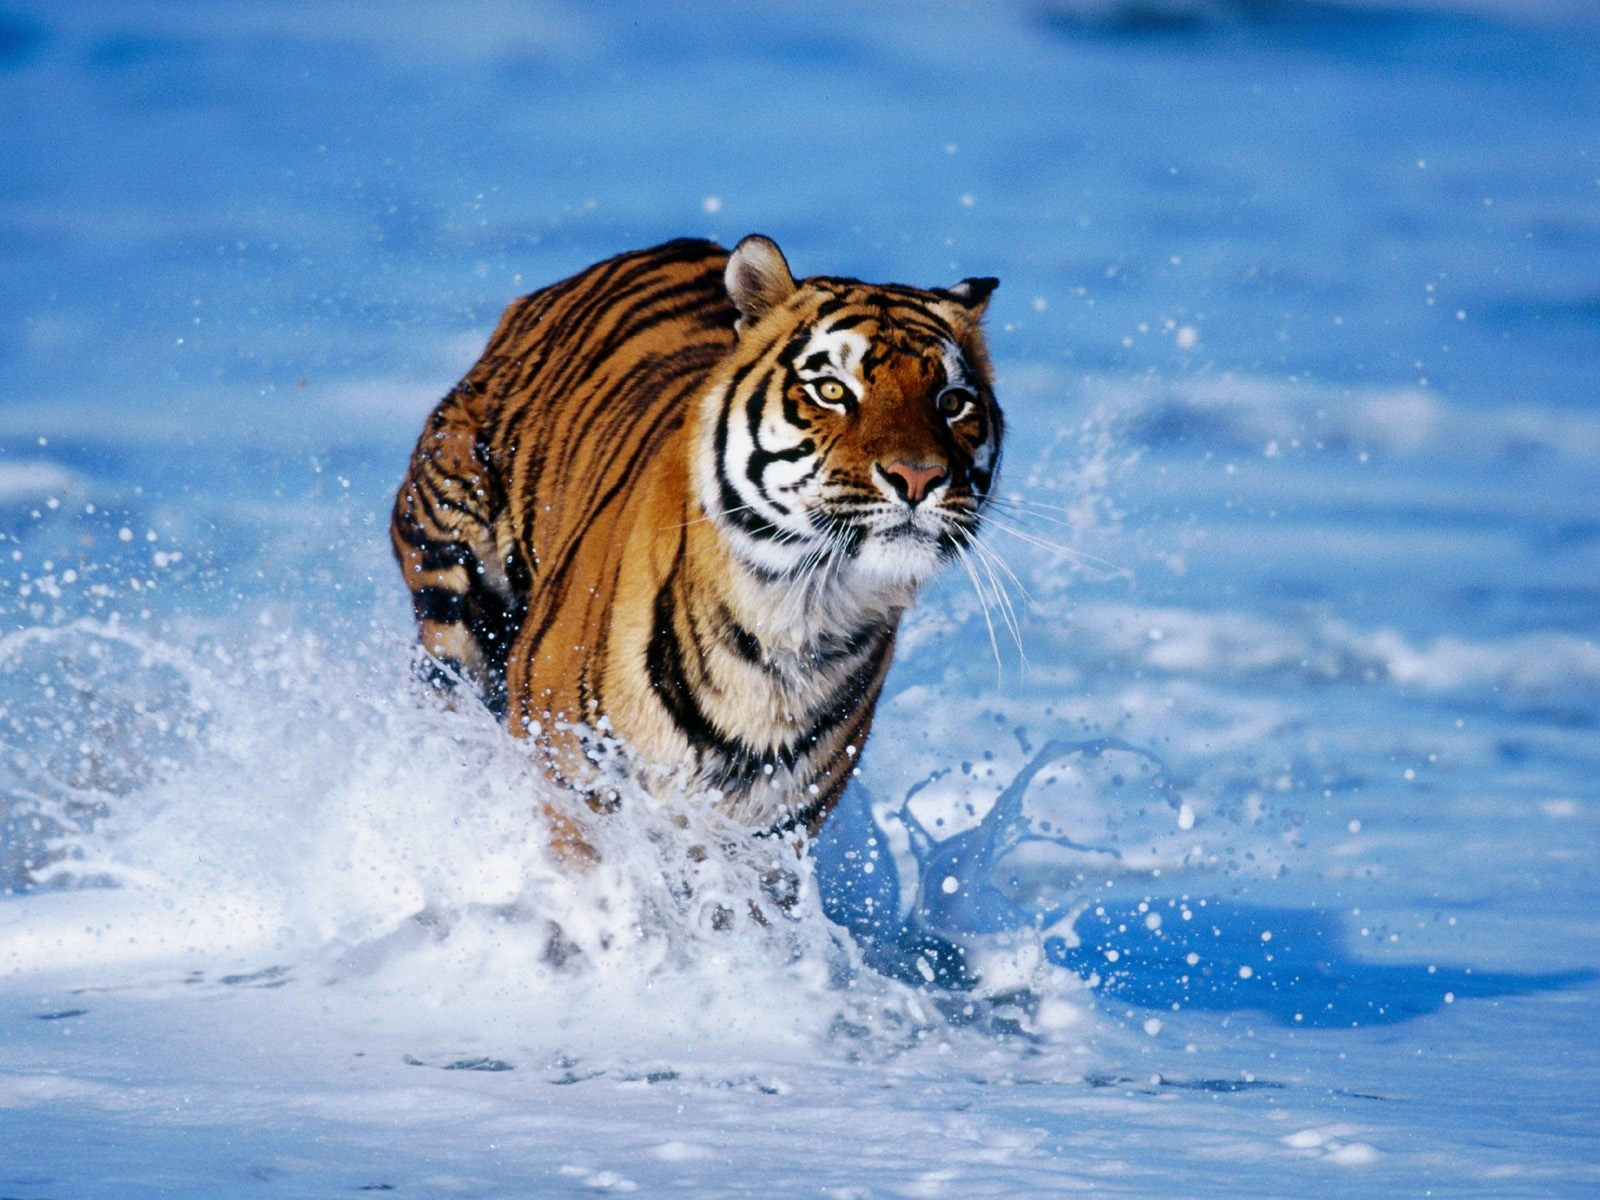Tiger: (321, 154, 1041, 952)
